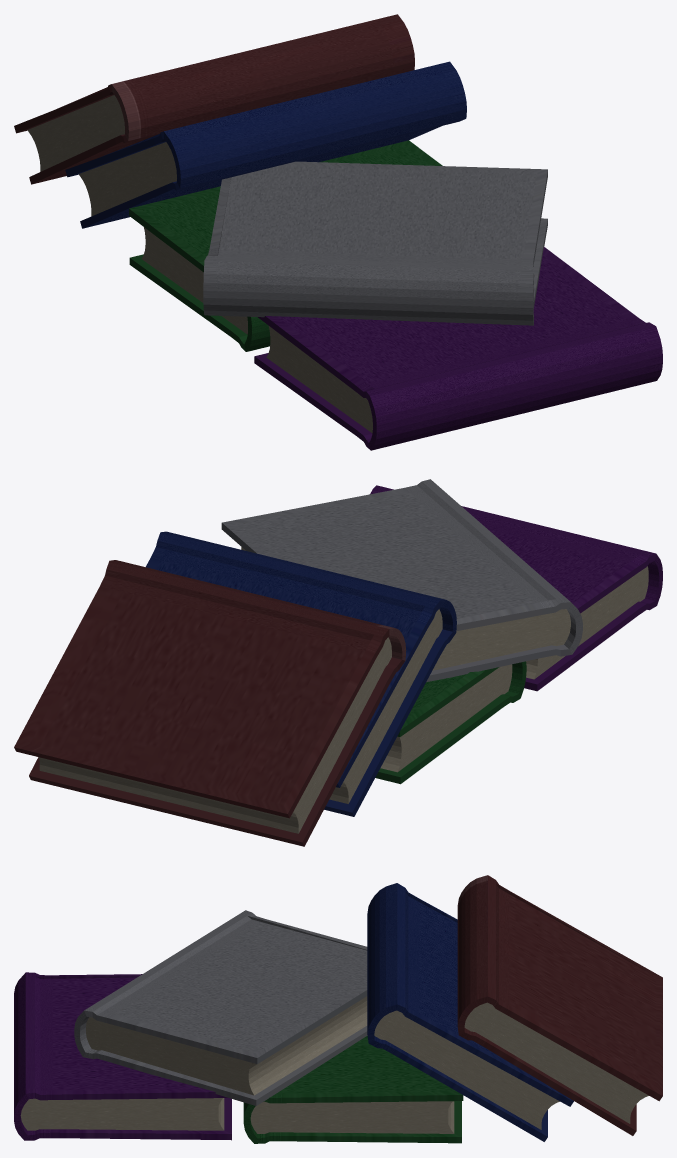
The model's file is booksStack.fbx.
3 renders of one model, top to bottom at view 1: azimuth 30°, elevation 25°; view 2: azimuth 150°, elevation 25°; view 3: azimuth 270°, elevation 25°, orthographic. The views are drawn at different scales.
Visible parts, largest first — view 1: GrayBook, PurpleBook, BlueBook, RedBook, GreenBook, Cube.001, Cube.002, Cube.005, Cube.003; view 2: RedBook, GrayBook, BlueBook, PurpleBook, Cube.002, GreenBook, Cube.004, Cube.003, Cube.001, Cube.005; view 3: GrayBook, RedBook, PurpleBook, BlueBook, GreenBook, Cube.004, Cube.005, Cube.003, Cube.002, Cube.001.
Boxes of the visible parts, left/top/right/bottom form: GrayBook: left=203, top=161, right=547, bottom=325; PurpleBook: left=254, top=247, right=662, bottom=450; BlueBook: left=65, top=61, right=466, bottom=228; RedBook: left=14, top=14, right=414, bottom=184; GreenBook: left=129, top=140, right=442, bottom=351; Cube.001: left=78, top=142, right=176, bottom=216; Cube.002: left=27, top=95, right=124, bottom=171; Cube.005: left=266, top=326, right=372, bottom=433; Cube.003: left=142, top=227, right=247, bottom=334; RedBook: left=14, top=560, right=406, bottom=846; GrayBook: left=221, top=479, right=582, bottom=681; BlueBook: left=146, top=531, right=456, bottom=816; PurpleBook: left=370, top=485, right=662, bottom=691; Cube.002: left=39, top=637, right=391, bottom=833; GreenBook: left=375, top=661, right=526, bottom=784; Cube.004: left=241, top=547, right=570, bottom=670; Cube.003: left=380, top=664, right=512, bottom=772; Cube.001: left=329, top=609, right=442, bottom=803; Cube.005: left=526, top=566, right=648, bottom=679; GrayBook: left=74, top=910, right=367, bottom=1105; RedBook: left=457, top=875, right=662, bottom=1135; PurpleBook: left=14, top=972, right=231, bottom=1140; BlueBook: left=367, top=883, right=573, bottom=1141; GreenBook: left=243, top=1036, right=463, bottom=1143; Cube.004: left=86, top=996, right=367, bottom=1095; Cube.005: left=20, top=1098, right=224, bottom=1130; Cube.003: left=250, top=1101, right=454, bottom=1133; Cube.002: left=464, top=1002, right=648, bottom=1123; Cube.001: left=374, top=1010, right=559, bottom=1129.
Size of the model in its own units: 270 by 123 by 488.
10 materials, 10 textured.
